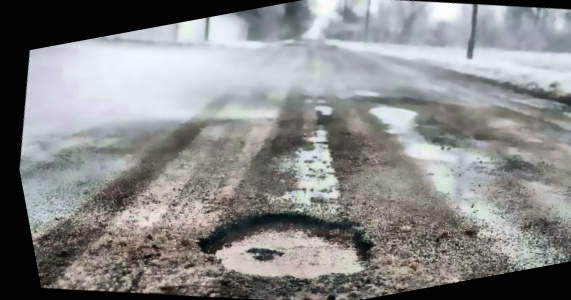pothole: (177, 170, 394, 300)
